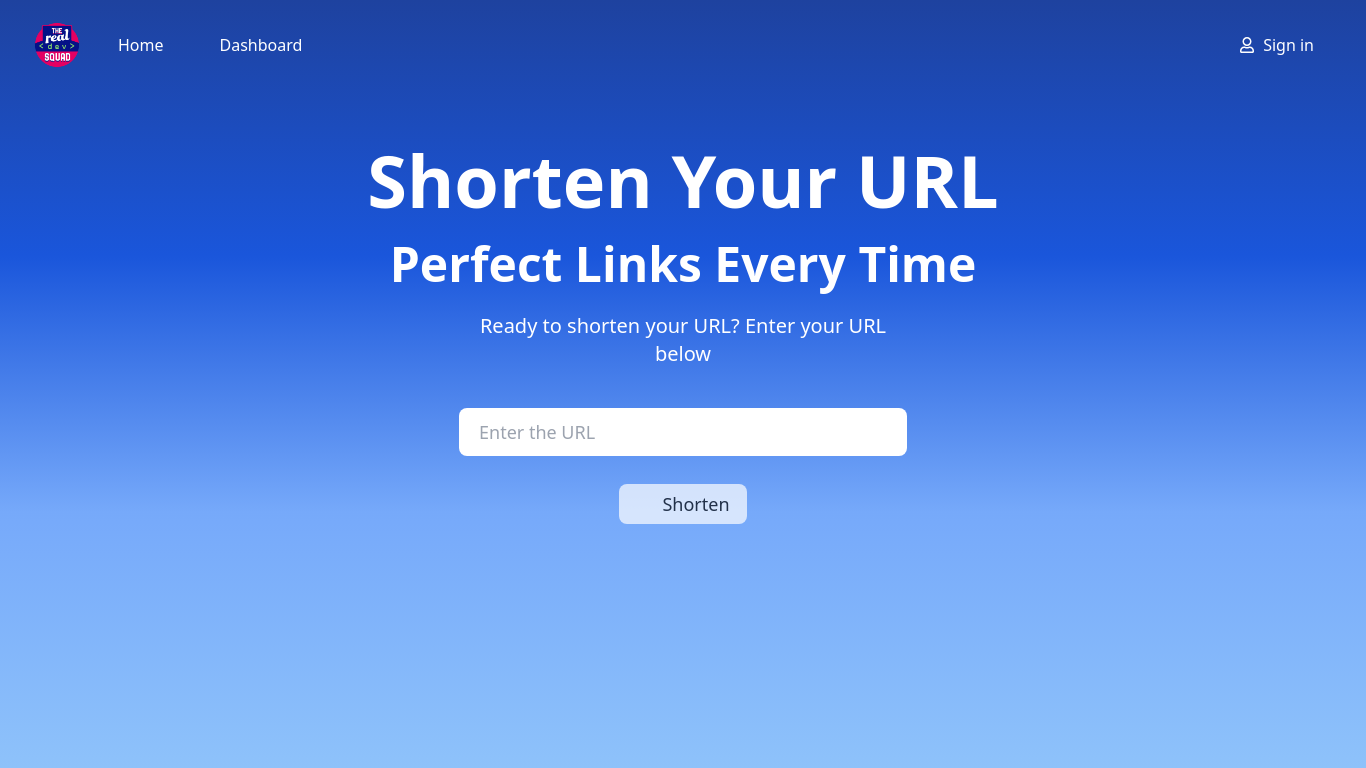
Test: App Component › shows login modal when user is not logged in
Type "https://www.longurl.com" into the field with placeholder "Enter the URL" at {"x": 683, "y": 432}, box [459,408,907,456]
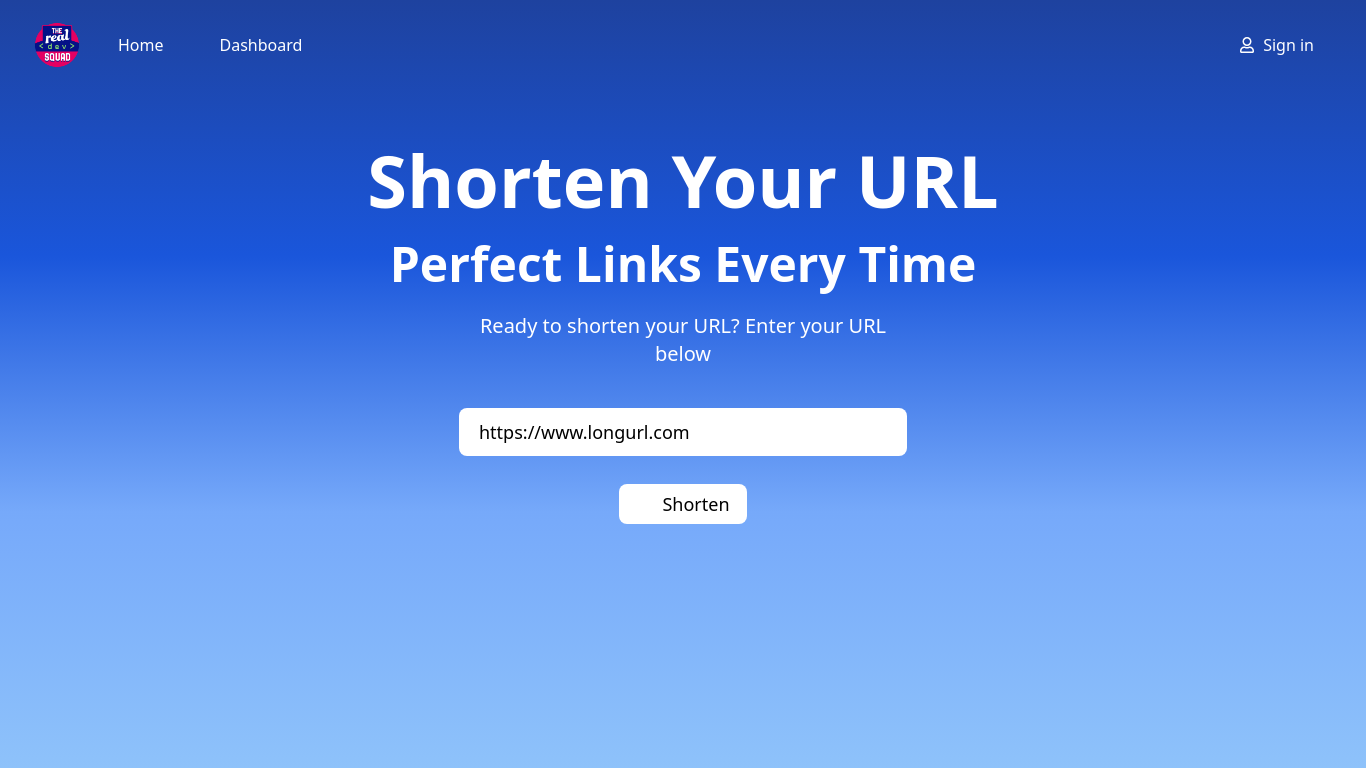
Click the button "Shorten" at {"x": 683, "y": 504}, box [619,484,747,524]
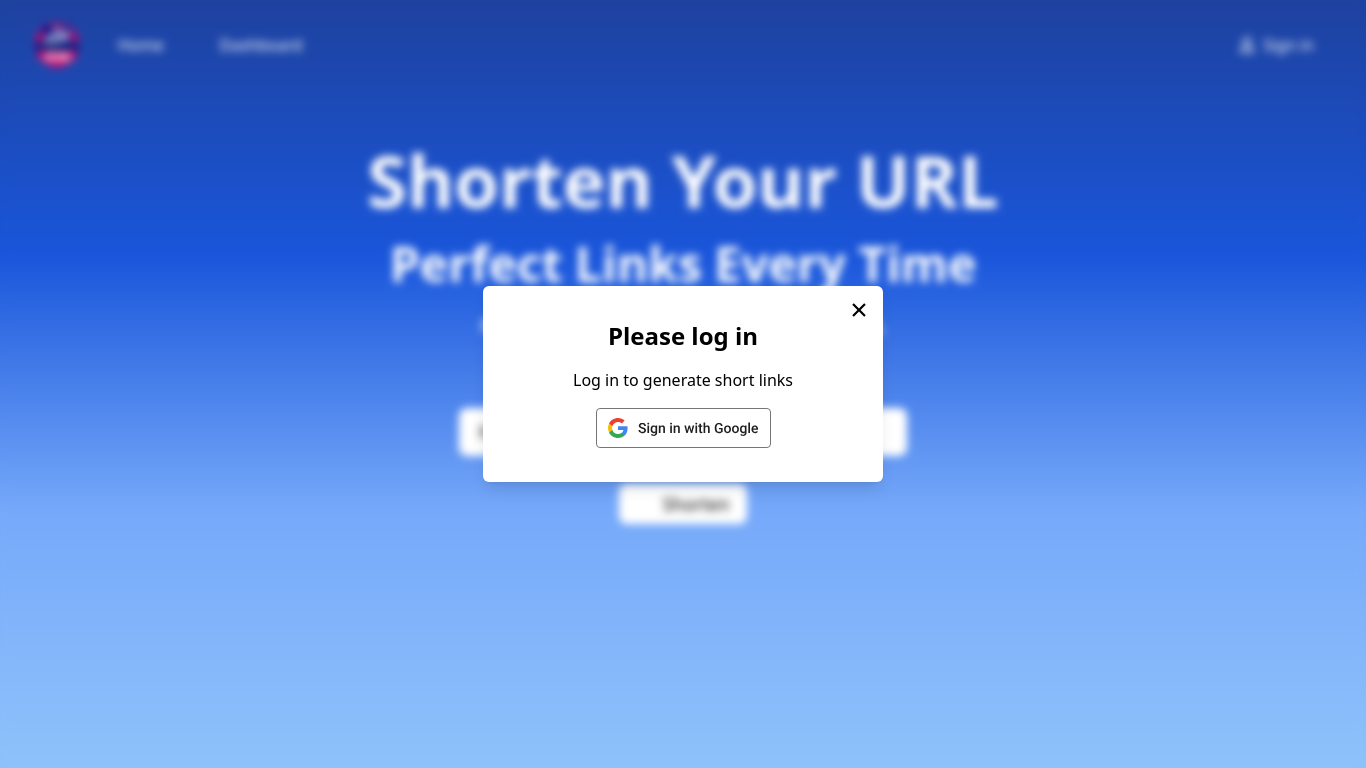
Check: the text "Log in to generate short links" is shown, box [573,368,793,392]
